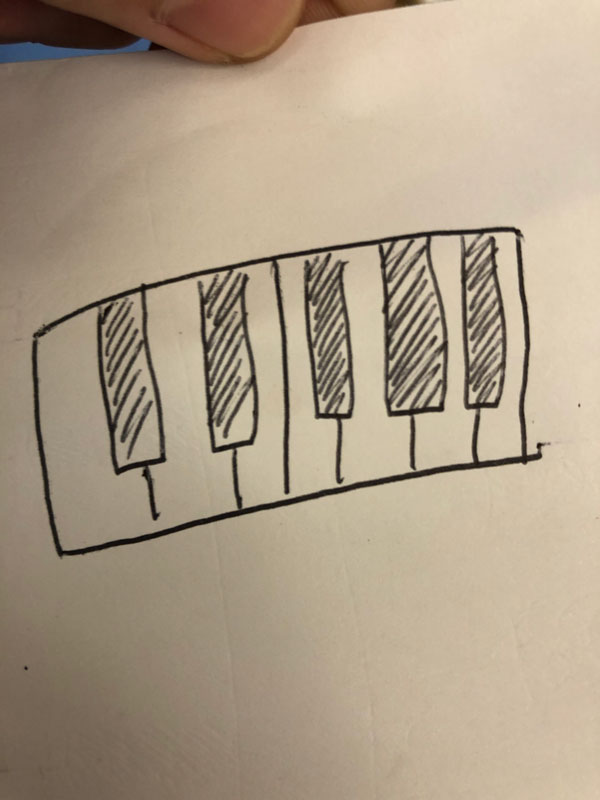piano: (18, 220, 545, 560)
